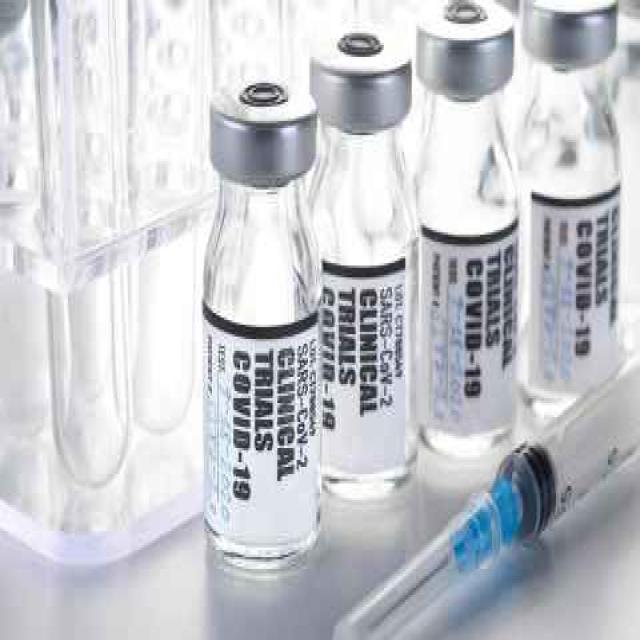B3: (330, 334, 640, 640), (190, 62, 346, 580), (297, 24, 427, 512), (407, 2, 522, 472)
